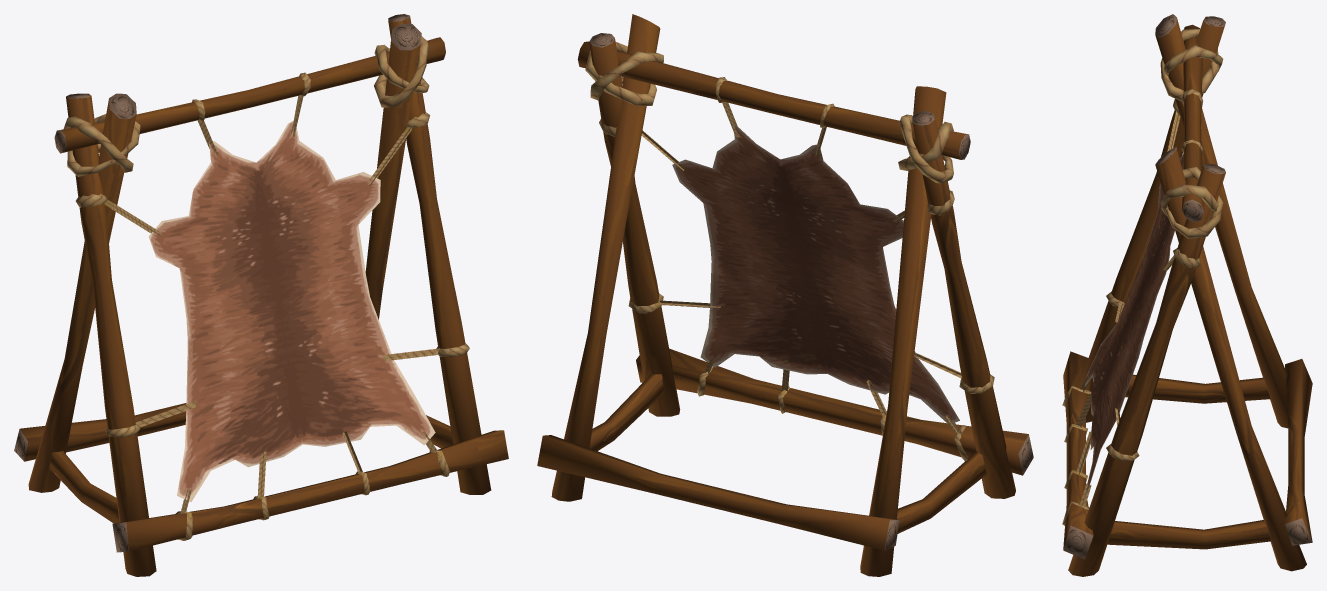
File: SM_PROP_tanningrack_city.fbx
The picture shows the model from 3 angles, left to right: view 1: azimuth 30°, elevation 25°; view 2: azimuth 150°, elevation 25°; view 3: azimuth 270°, elevation 25°; orthographic projection. The views are drawn at different scales.
Parts seen in each view (by area): view 1: SM_PROP_tanningrack_city; view 2: SM_PROP_tanningrack_city; view 3: SM_PROP_tanningrack_city.
Boxes of the visible parts, x1,y1,x2,y2 form: SM_PROP_tanningrack_city: (14, 14, 508, 576); SM_PROP_tanningrack_city: (537, 14, 1033, 576); SM_PROP_tanningrack_city: (1062, 14, 1312, 576).
Bounding box in the file's own units: 202 × 220 × 121.
